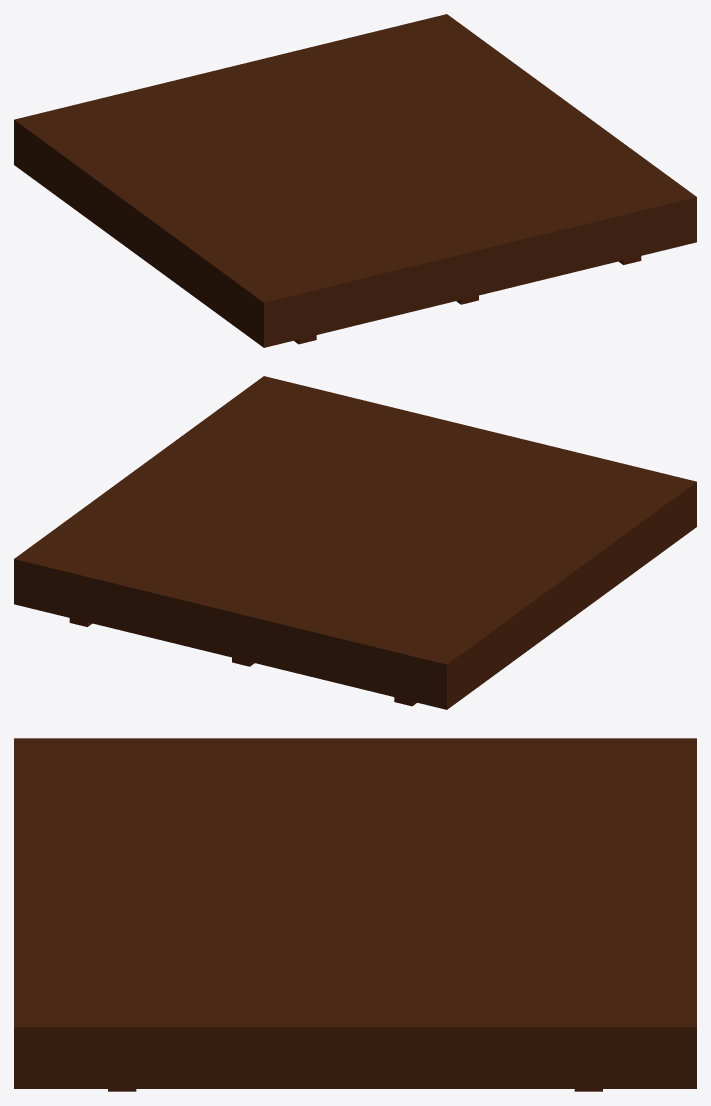
The model's file is SM_Wall_Wood.obj.
The picture shows the model from 3 angles, top to bottom: view 1: azimuth 30°, elevation 25°; view 2: azimuth 150°, elevation 25°; view 3: azimuth 270°, elevation 25°; orthographic projection. The views are drawn at different scales.
Visible parts, largest first — view 1: SM_Wall_Wood; view 2: SM_Wall_Wood; view 3: SM_Wall_Wood.
Boxes of the visible parts, x1,y1,x2,y2 form: SM_Wall_Wood: (14,14,696,347); SM_Wall_Wood: (14,376,696,709); SM_Wall_Wood: (14,738,696,1091).
Bounding box in the file's own units: 240 × 32 × 240.
